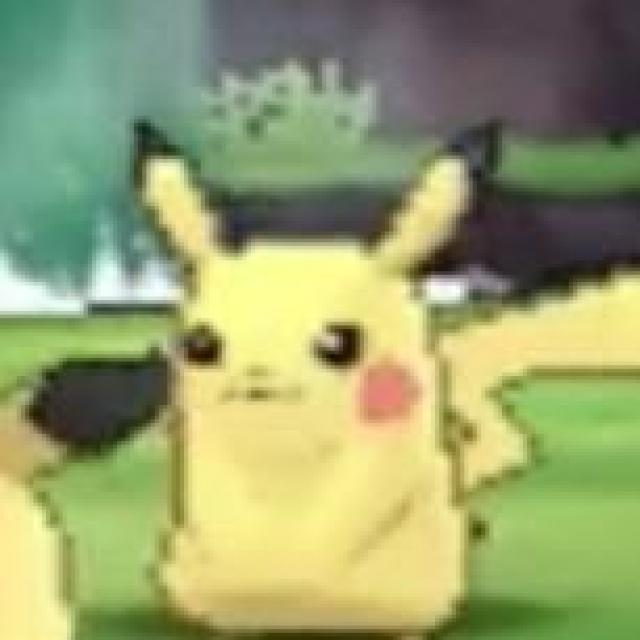pikachu: (130, 116, 640, 637)
